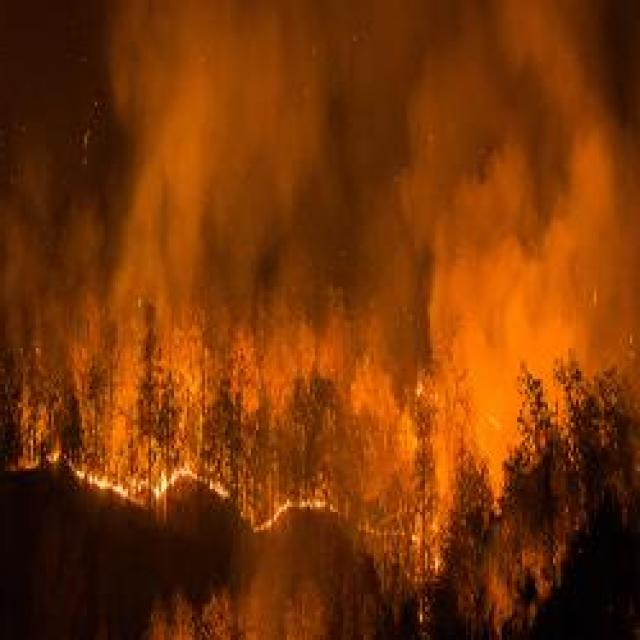fire: (148, 471, 176, 498)
smoke: (488, 0, 632, 276), (116, 31, 228, 302), (214, 70, 330, 222), (430, 265, 560, 362), (235, 530, 293, 630), (0, 202, 47, 321)
